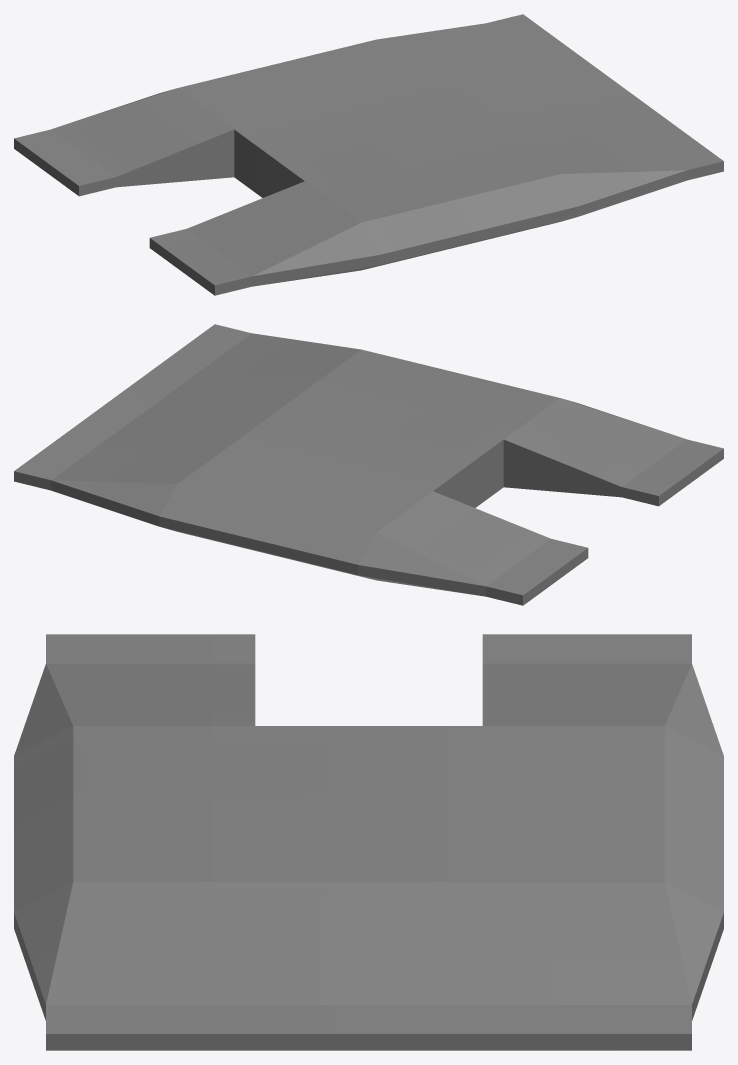
The model's file is Cover02.fbx.
The picture shows the model from 3 angles, top to bottom: view 1: azimuth 30°, elevation 25°; view 2: azimuth 150°, elevation 25°; view 3: azimuth 270°, elevation 25°; orthographic projection. The views are drawn at different scales.
Parts seen in each view (by area): view 1: Cover02; view 2: Cover02; view 3: Cover02.
Boxes of the visible parts, x1,y1,x2,y2 form: Cover02: (14, 14, 723, 295); Cover02: (14, 324, 723, 605); Cover02: (14, 634, 723, 1050).
Bounding box in the file's own units: 703 × 63.06 × 528.
